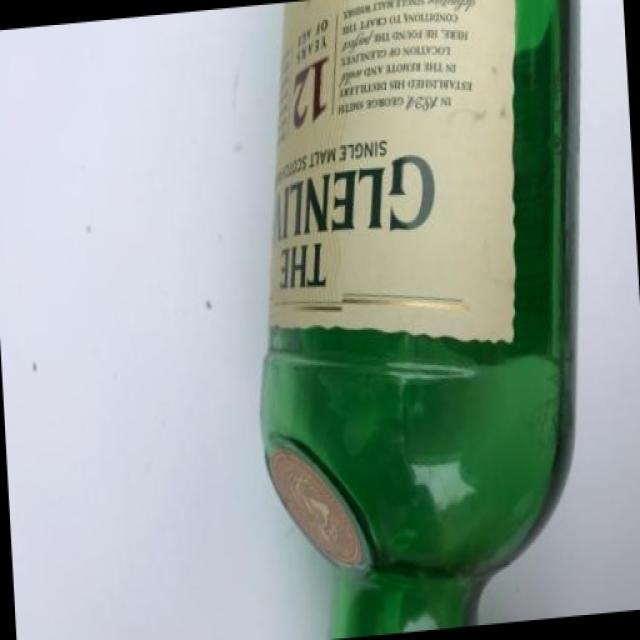vidrio: (269, 0, 625, 640)
